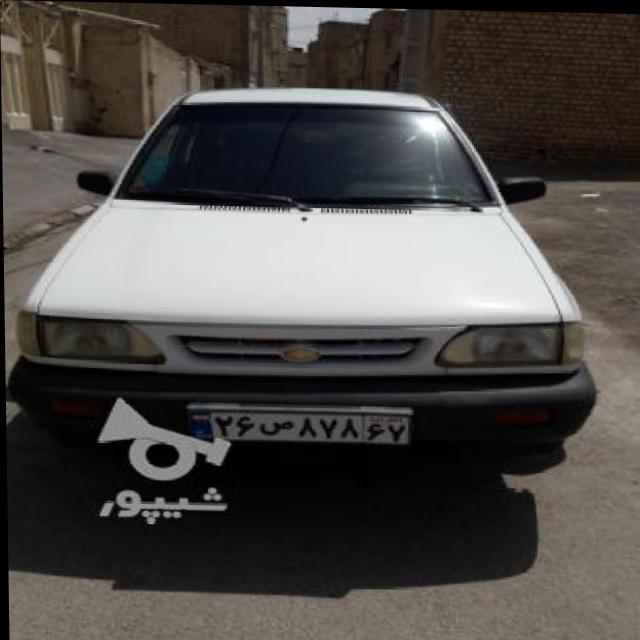licence: (181, 401, 407, 444)
